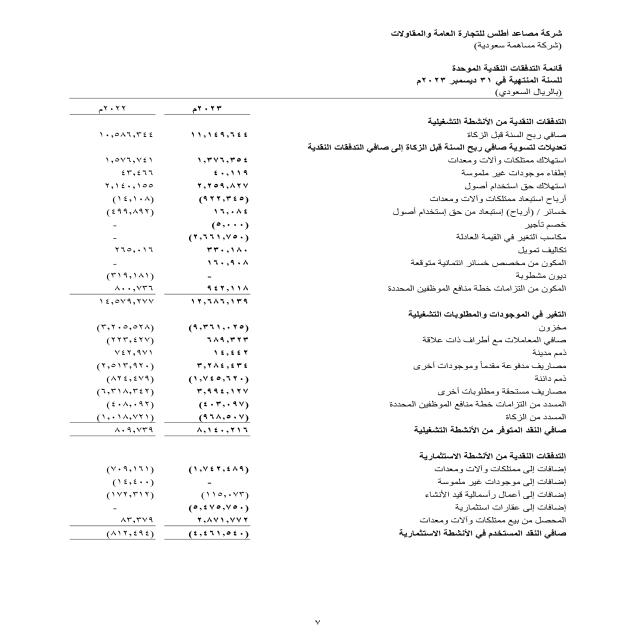financial_sheets: (449, 62, 567, 76)
table: (50, 87, 268, 550)
